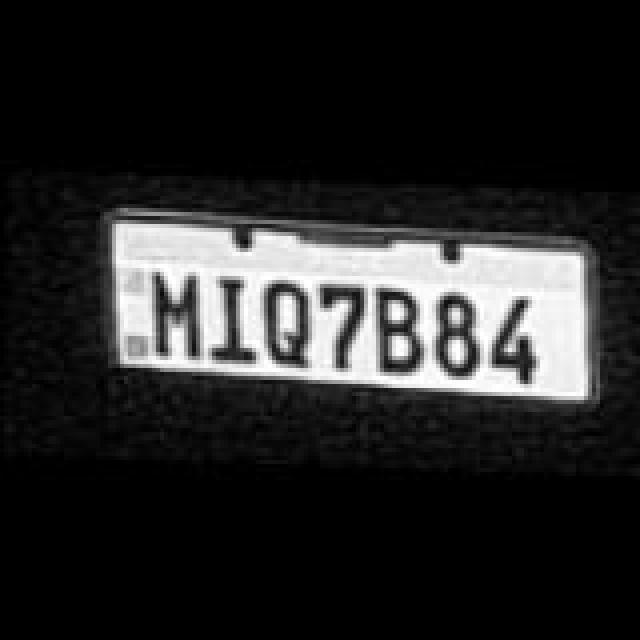4: (488, 290, 540, 378)
7: (318, 276, 366, 364)
8: (432, 284, 484, 372)
B: (376, 282, 428, 370)
I: (208, 272, 260, 360)
M: (146, 266, 202, 354)
Q: (260, 274, 312, 362)
